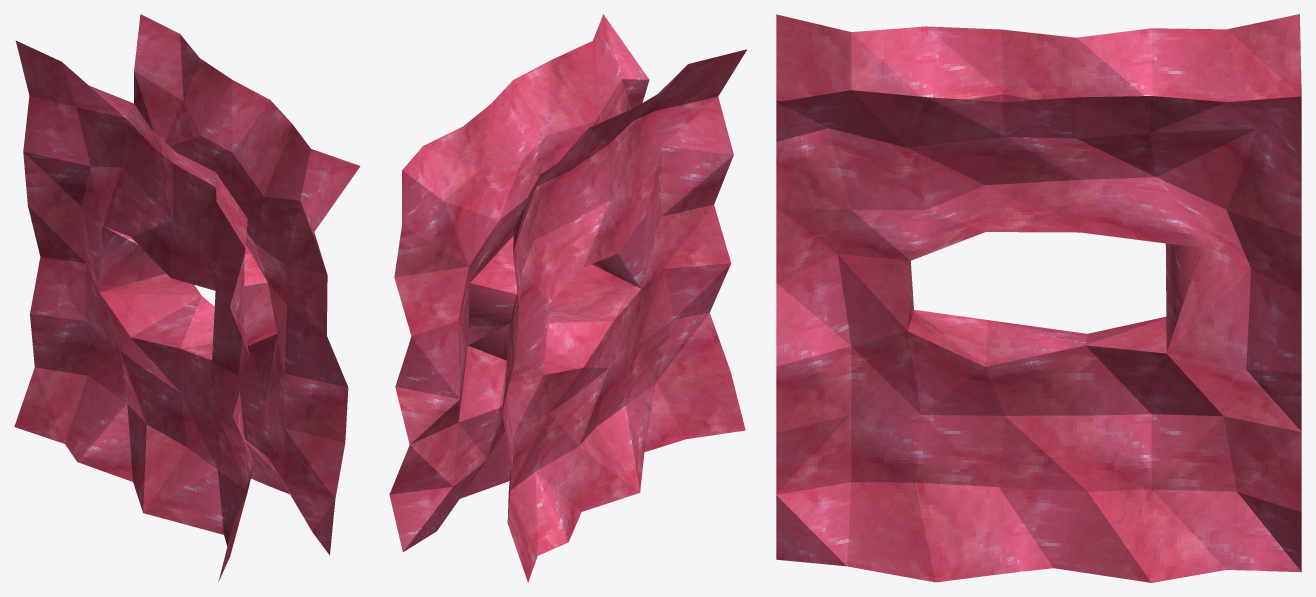
File: flesh.dae
The picture shows the model from 3 angles, left to right: view 1: azimuth 30°, elevation 25°; view 2: azimuth 150°, elevation 25°; view 3: azimuth 270°, elevation 25°; orthographic projection. The views are drawn at different scales.
Parts seen in each view (by area): view 1: entity0_brush24; view 2: entity0_brush24; view 3: entity0_brush24.
Boxes of the visible parts, x1,y1,x2,y2 form: entity0_brush24: (14, 14, 360, 581); entity0_brush24: (389, 14, 746, 582); entity0_brush24: (776, 14, 1301, 582).
Bounding box in the file's own units: 33.26 × 80 × 81.01.
Materials: 1 (1 with a texture image).
